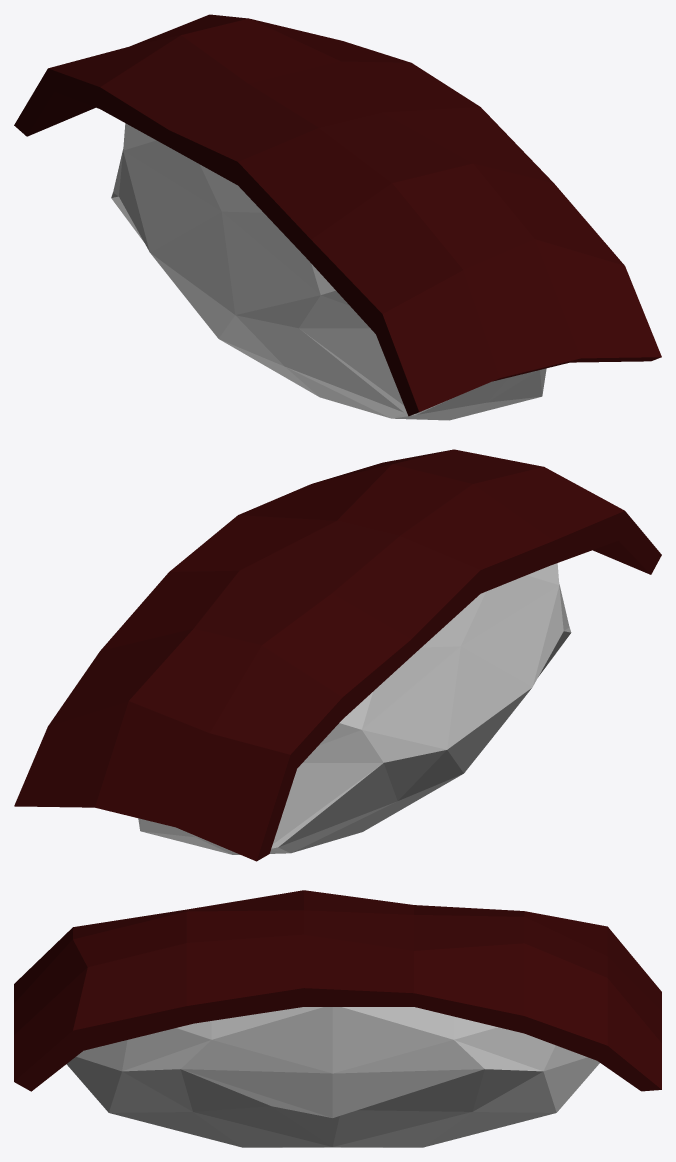
The model's file is maguro.obj.
3 views of the same model, one above another, from view 1: azimuth 30°, elevation 25°; view 2: azimuth 150°, elevation 25°; view 3: azimuth 270°, elevation 25° (orthographic). The views are drawn at different scales.
Visible parts, largest first — view 1: Maguro Maguro_GP, Maguro_GP Rice; view 2: Maguro Maguro_GP, Maguro_GP Rice; view 3: Maguro Maguro_GP, Maguro_GP Rice.
Boxes of the visible parts, x1,y1,x2,y2 form: Maguro Maguro_GP: [14, 14, 661, 416]; Maguro_GP Rice: [111, 123, 546, 420]; Maguro Maguro_GP: [14, 449, 661, 861]; Maguro_GP Rice: [138, 563, 571, 854]; Maguro Maguro_GP: [14, 890, 661, 1091]; Maguro_GP Rice: [66, 1007, 599, 1147].
Size of the model in its own units: 2.12 by 1.81 by 5.41.
